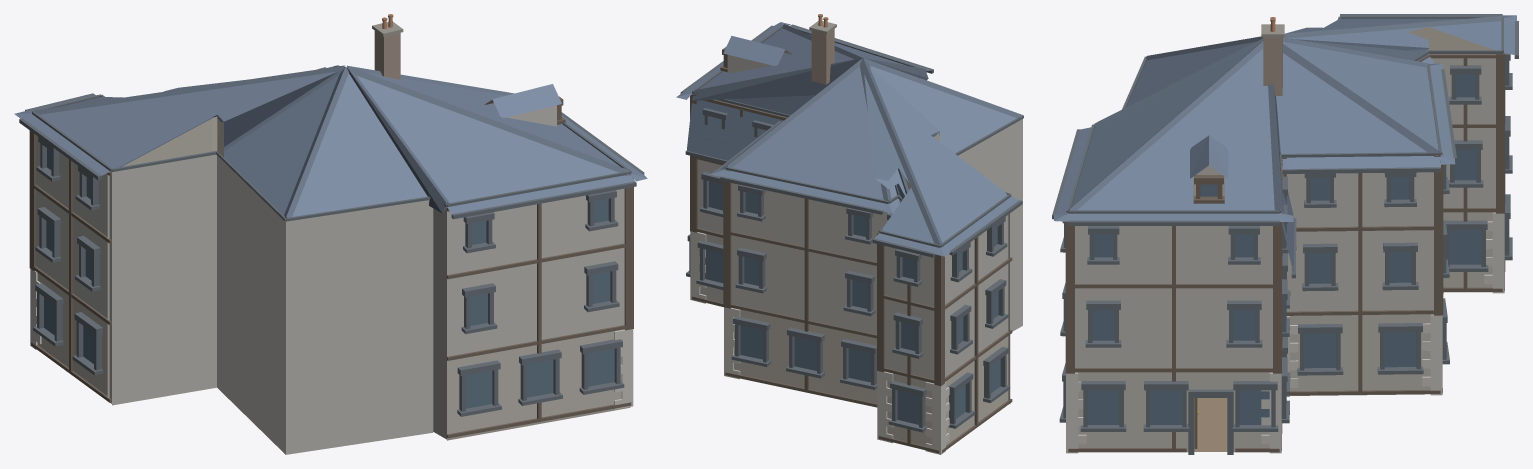
The model's file is b133_closed.glb.
The picture shows the model from 3 angles, left to right: view 1: azimuth 30°, elevation 25°; view 2: azimuth 150°, elevation 25°; view 3: azimuth 270°, elevation 25°; orthographic projection. The views are drawn at different scales.
Visible parts, largest first — view 1: B133_visible; view 2: B133_visible; view 3: B133_visible.
Part boxes in pixels (left/top/right/bottom): B133_visible: left=14, top=14, right=647, bottom=454; B133_visible: left=676, top=14, right=1023, bottom=454; B133_visible: left=1052, top=14, right=1518, bottom=454.
Size of the model in its own units: 17.89 by 14.67 by 16.95.
